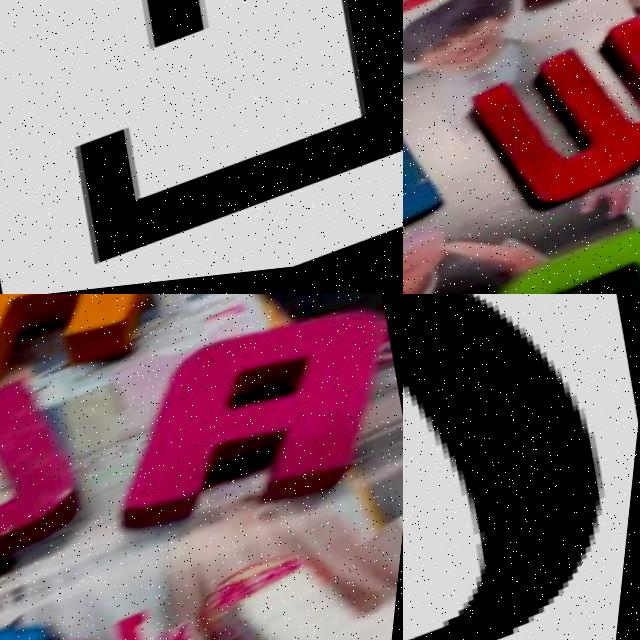A: (91, 294, 403, 561)
C: (490, 215, 640, 294)
N: (403, 79, 470, 294)
O: (403, 294, 613, 640)
R: (0, 294, 196, 414)
U: (0, 360, 115, 640)
W: (445, 10, 640, 250)
